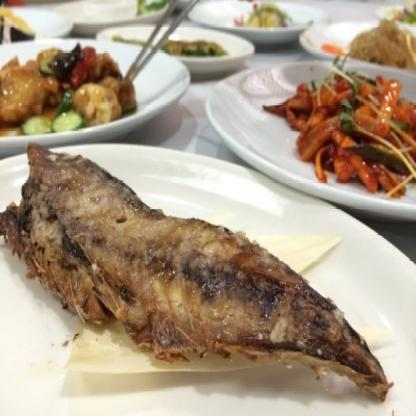Peixe: (0, 134, 405, 416)
